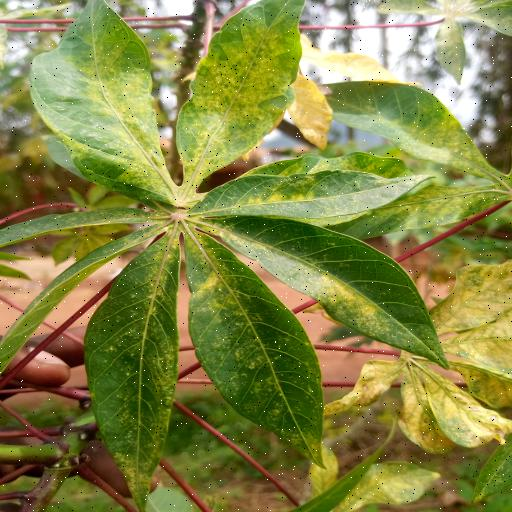Cassava_Mosaic: (27, 6, 460, 498)
